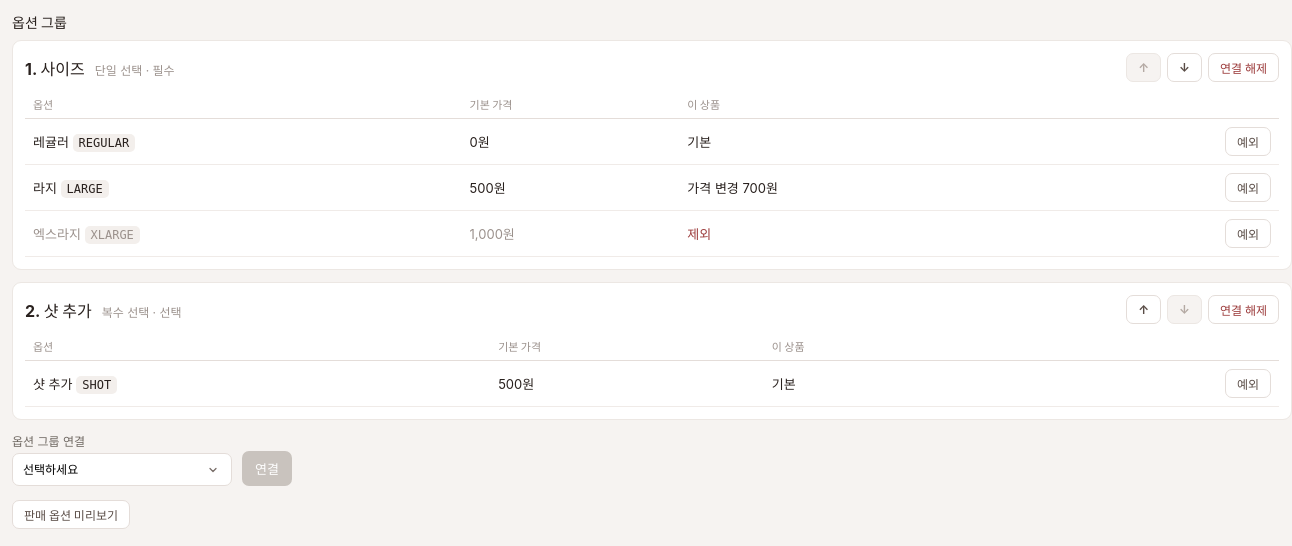
Scenario: 버전 충돌과 오류 › 연결 중 버전이 어긋나면(409) 최신 내용을 다시 불러왔다는 오류 토스트를 띄운다
This screenshot has width=1292, height=546.
Select "온도" in the dropdown labelled "옵션 그룹 연결" at point(122, 470), box [12,453,232,486]
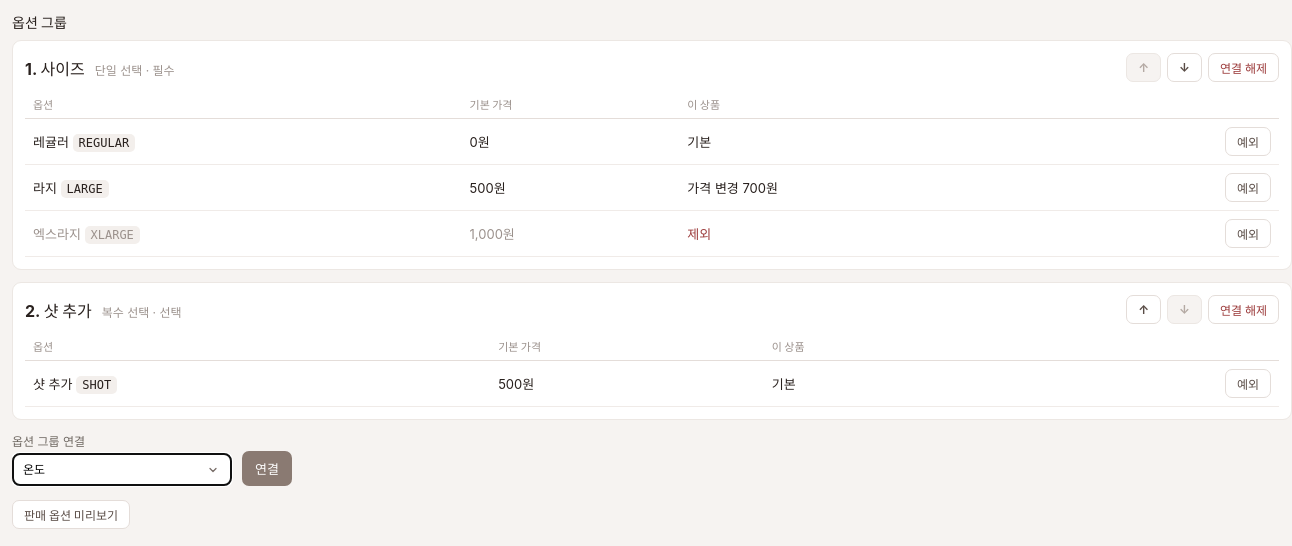
Click the button "연결" at point(267, 468), box [242,451,292,486]
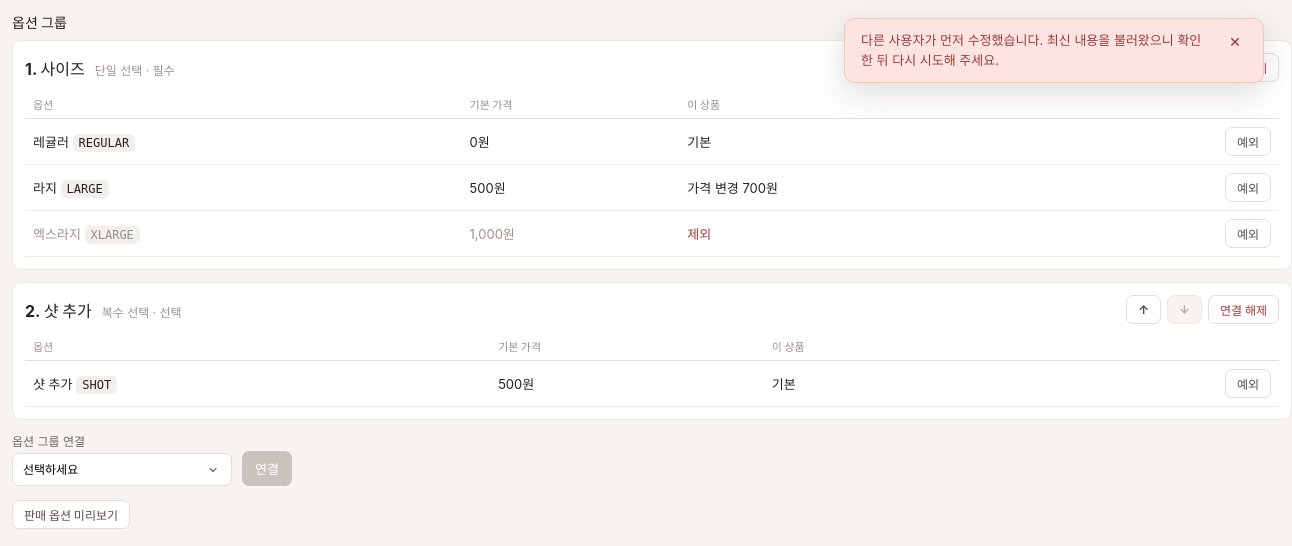
expect the text "다른 사용자가 먼저 수정했습니다. 최신 내용을 불러왔으니 확인한 뒤 다시 시도해 주세요. ×" is shown: met, box [844,18,1264,83]
